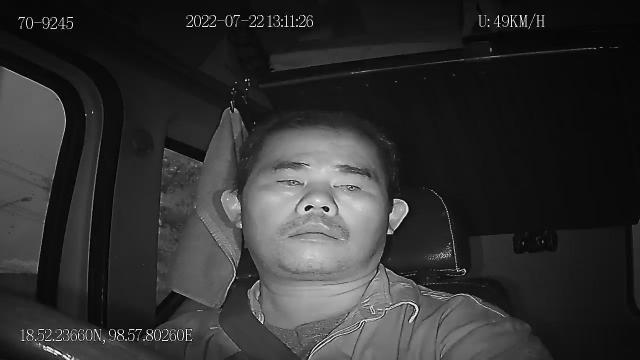SafeDriving: (263, 164, 313, 195), (326, 171, 374, 200)
Seatbelt: (217, 284, 303, 360)
